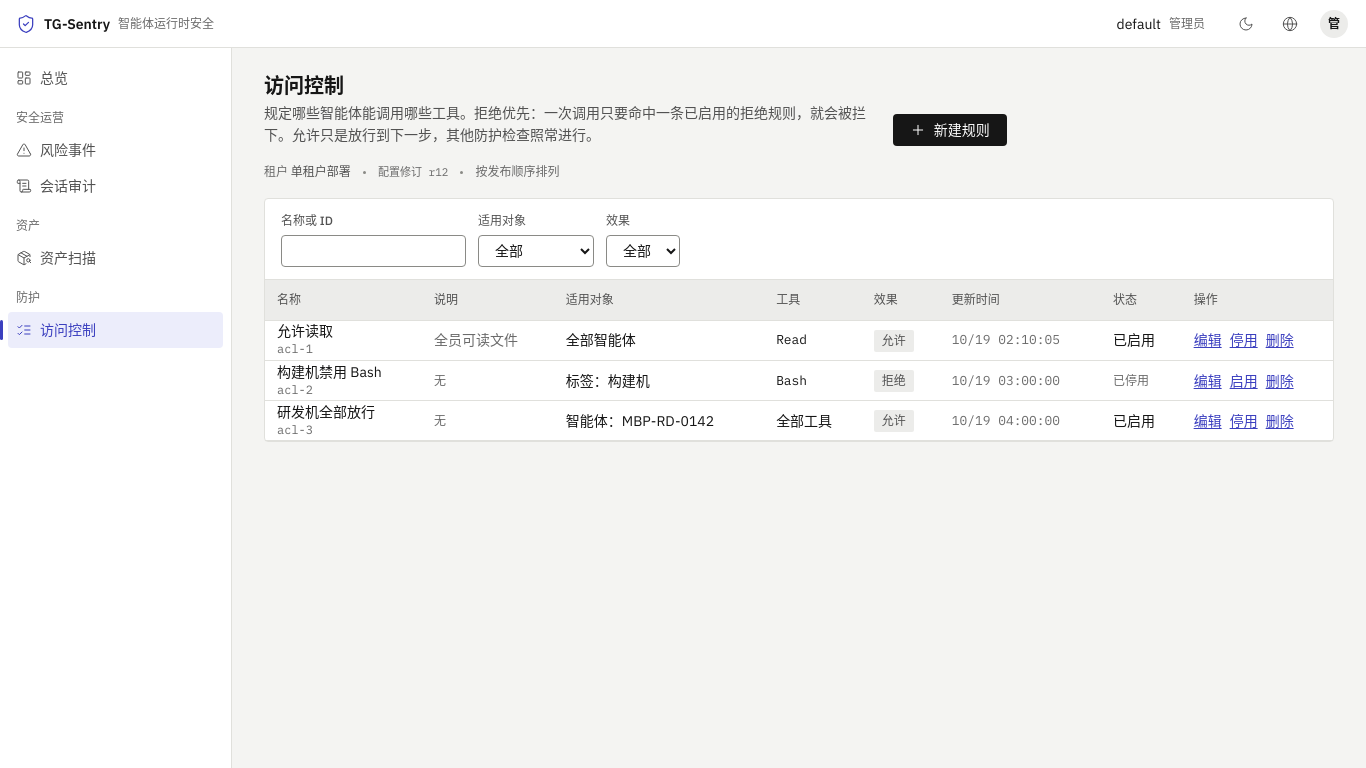
Test: ACL review → publish from a row (#44 S5b) › disable: reviews with the list ETag, shows the diff, publishes with the review ETag, refreshes
Click the button with aria-label "停用规则“允许读取”". click: (1244, 340)
box: [1230,329,1258,351]
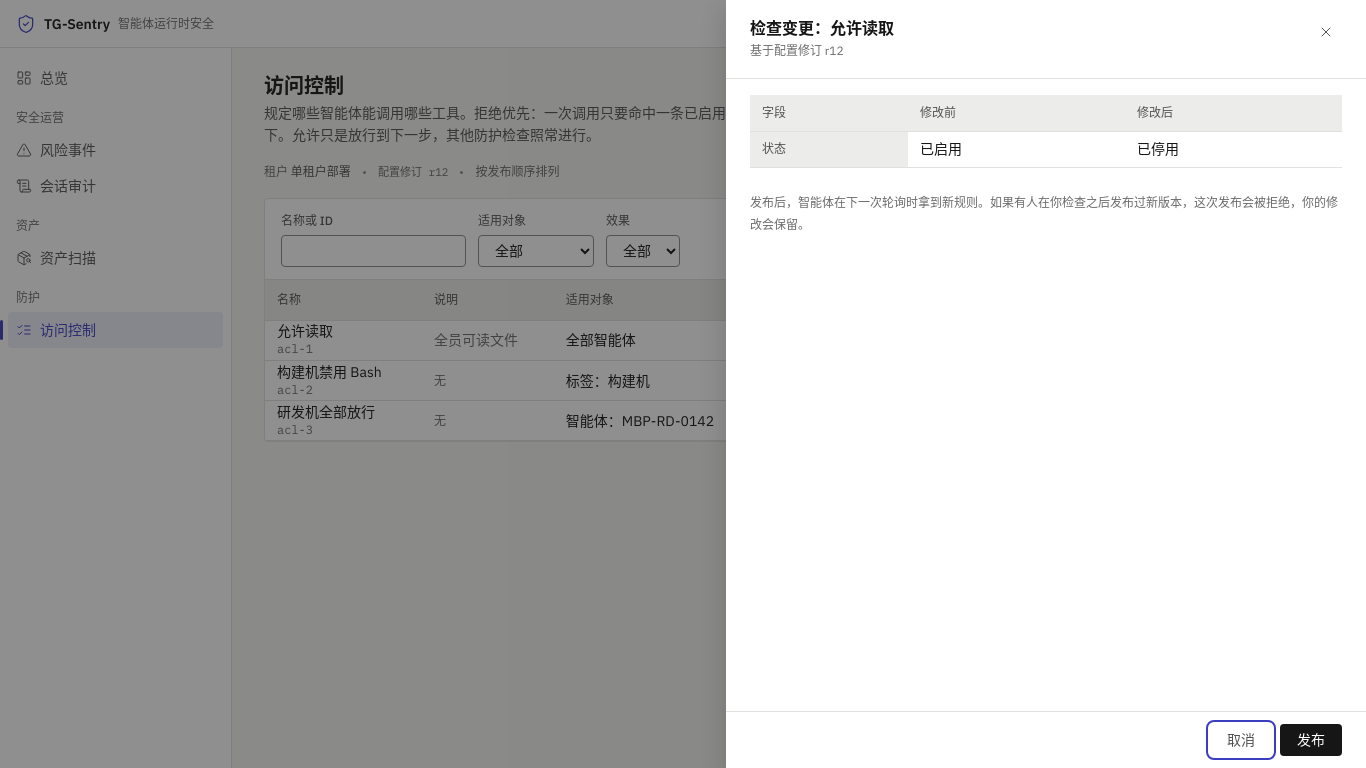
Check: the text "基于配置修订 r12" is shown, box [750,43,844,58]
Check: the row "状态 已启用 已停用" is shown, box [750,132,1342,168]
Click the button "发布". click: (1311, 740)
box: [1280,724,1342,756]
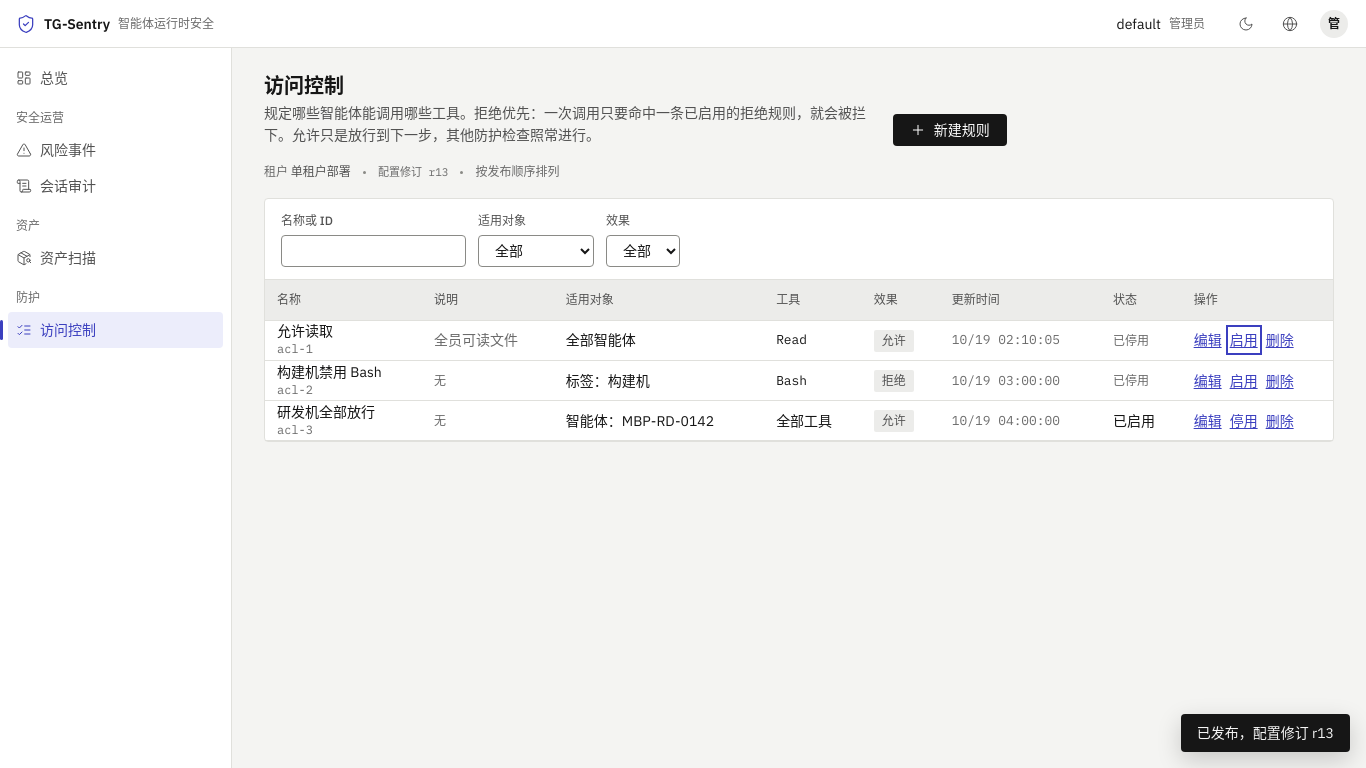
Check: the dialog is gone
Check: the text "配置修订 r13" is shown, box [378,162,448,182]
Check: the message reads "已发布，配置修订 r13", box [1197,724,1334,742]
